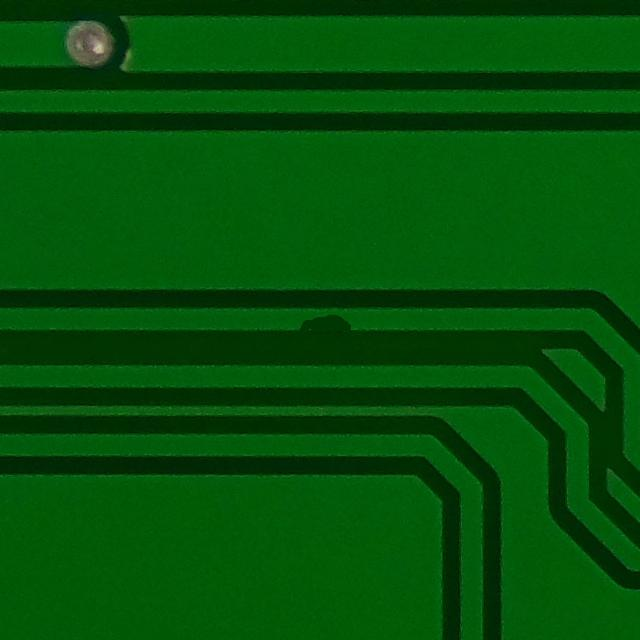mouse_bite: (274, 294, 367, 346)
